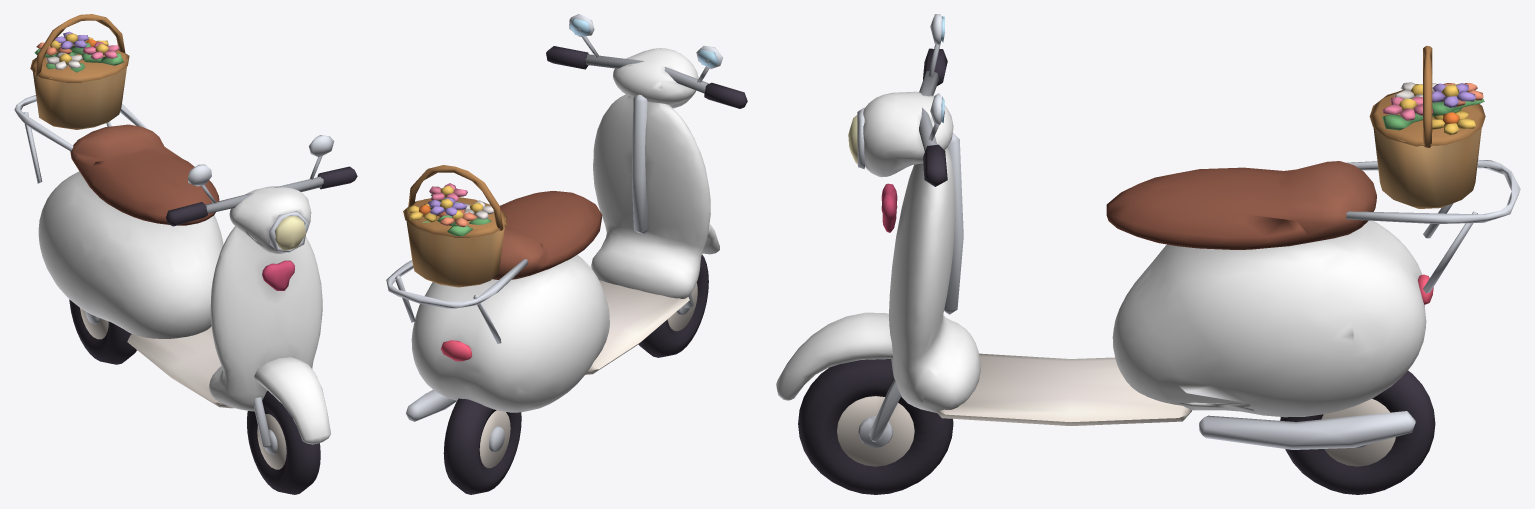
File: veh_scooter.glb
The picture shows the model from 3 angles, left to right: view 1: azimuth 30°, elevation 25°; view 2: azimuth 150°, elevation 25°; view 3: azimuth 270°, elevation 25°; orthographic projection. The views are drawn at different scales.
Parts seen in each view (by area): view 1: SM_veh_scooter_lean_paint, SM_veh_scooter_lean, SM_veh_scooter_lean_gloss, SM_veh_scooter_wheel_f, SM_veh_scooter_bars_paint, SM_veh_scooter_bars_metal, SM_veh_scooter_lean_metal, SM_veh_scooter_wheel_r, SM_veh_scooter_bars, SM_veh_scooter_bars_gloss, SM_veh_scooter_wheel_f_gloss, SM_veh_scooter_wheel_r_gloss; view 2: SM_veh_scooter_lean_paint, SM_veh_scooter_lean, SM_veh_scooter_wheel_r, SM_veh_scooter_lean_gloss, SM_veh_scooter_bars_metal, SM_veh_scooter_bars_paint, SM_veh_scooter_lean_metal, SM_veh_scooter_wheel_f, SM_veh_scooter_bars, SM_veh_scooter_wheel_r_gloss, SM_veh_scooter_bars_gloss, SM_veh_scooter_wheel_f_gloss; view 3: SM_veh_scooter_lean_paint, SM_veh_scooter_lean, SM_veh_scooter_lean_gloss, SM_veh_scooter_wheel_f, SM_veh_scooter_lean_metal, SM_veh_scooter_wheel_r, SM_veh_scooter_bars_paint, SM_veh_scooter_bars_metal, SM_veh_scooter_wheel_f_gloss, SM_veh_scooter_wheel_r_gloss, SM_veh_scooter_bars.
Part boxes in pixels (x1,y1,x2,y2): SM_veh_scooter_lean_paint: (38,171,330,444); SM_veh_scooter_lean: (30,14,219,225); SM_veh_scooter_lean_gloss: (127,260,294,408); SM_veh_scooter_wheel_f: (247,391,320,494); SM_veh_scooter_bars_paint: (229,186,311,253); SM_veh_scooter_bars_metal: (188,135,334,252); SM_veh_scooter_lean_metal: (14,95,270,448); SM_veh_scooter_wheel_r: (69,299,136,364); SM_veh_scooter_bars: (166,166,357,226); SM_veh_scooter_bars_gloss: (193,140,312,250); SM_veh_scooter_wheel_f_gloss: (257,414,286,469); SM_veh_scooter_wheel_r_gloss: (80,308,108,339); SM_veh_scooter_lean_paint: (411,94,719,412); SM_veh_scooter_lean: (403,165,602,287); SM_veh_scooter_wheel_r: (443,398,521,494); SM_veh_scooter_lean_gloss: (441,280,689,374); SM_veh_scooter_bars_metal: (569,14,722,234); SM_veh_scooter_bars_paint: (613,48,698,108); SM_veh_scooter_lean_metal: (386,259,693,421); SM_veh_scooter_wheel_f: (638,254,708,357); SM_veh_scooter_bars: (546,46,747,108); SM_veh_scooter_wheel_r_gloss: (479,410,510,468); SM_veh_scooter_bars_gloss: (569,18,718,68); SM_veh_scooter_wheel_f_gloss: (667,283,697,331); SM_veh_scooter_lean_paint: (776,148,1426,417); SM_veh_scooter_lean: (1106,46,1485,249); SM_veh_scooter_lean_gloss: (881,183,1433,425); SM_veh_scooter_wheel_f: (798,359,953,494); SM_veh_scooter_lean_metal: (868,159,1520,449); SM_veh_scooter_wheel_r: (1280,370,1435,494); SM_veh_scooter_bars_paint: (863,91,953,177); SM_veh_scooter_bars_metal: (857,14,963,314); SM_veh_scooter_wheel_f_gloss: (837,396,914,466); SM_veh_scooter_wheel_r_gloss: (1321,399,1395,466); SM_veh_scooter_bars: (923,48,947,186).
Bounding box in the file's own units: 0.7622 × 1.26 × 1.92.
